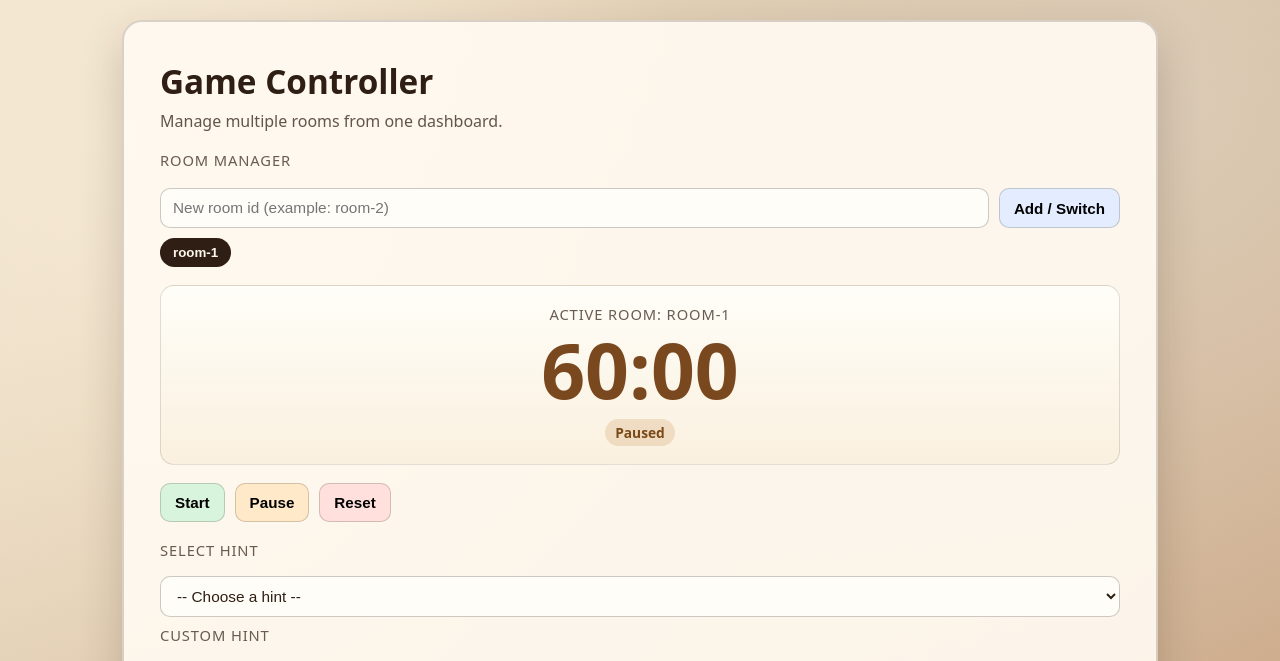
Scenario: Controller › adds and switches to a new room
Type "room-2" into the field with placeholder "New room id (example: room-2)".
click(574, 208); type("room-2")  # box [160,188,989,228]
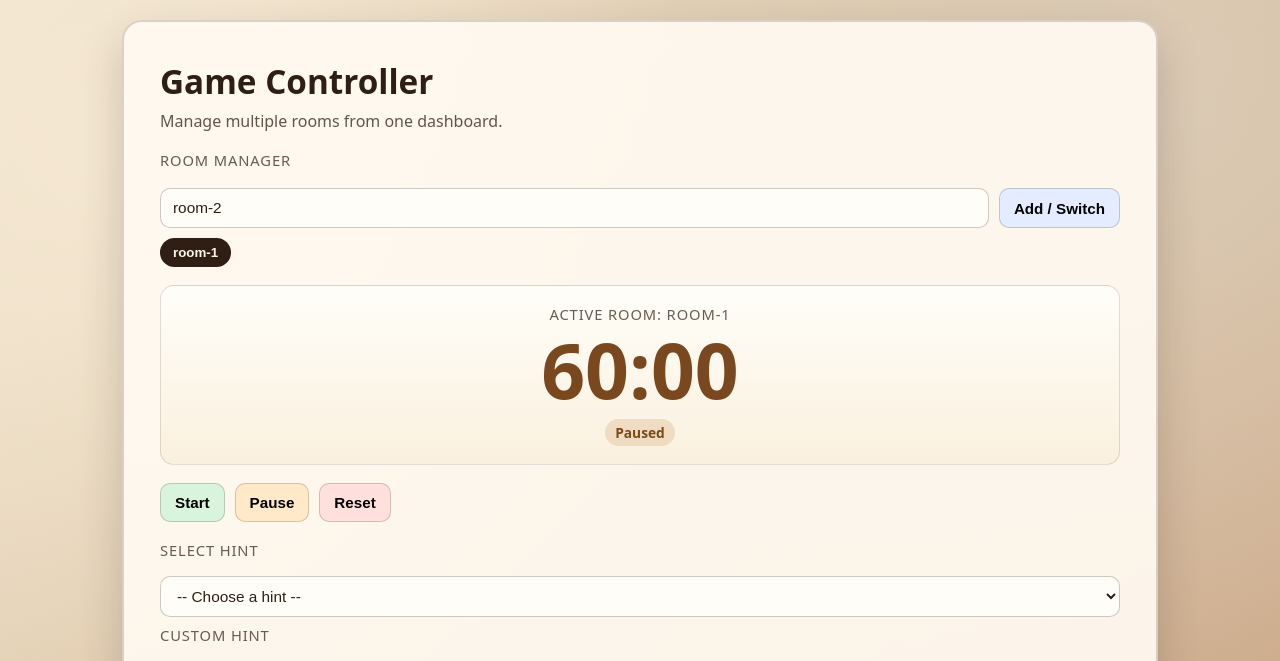
Click the button "Add / Switch".
click(1059, 208)  # box [999,188,1120,228]
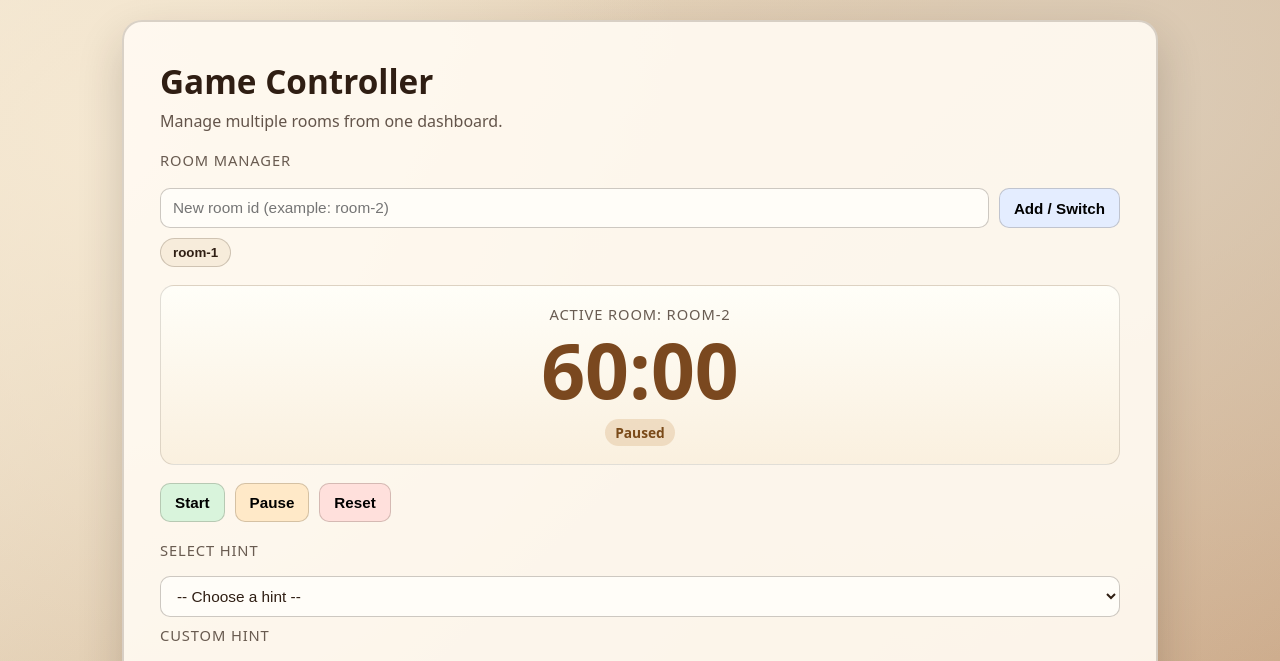
Expected: the text "Active Room: room-2" is shown, [549,304,731,324]
